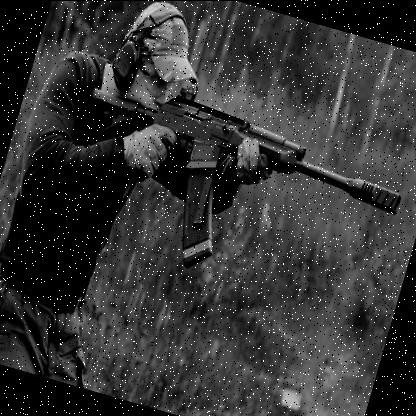rifle: (53, 56, 416, 310)
